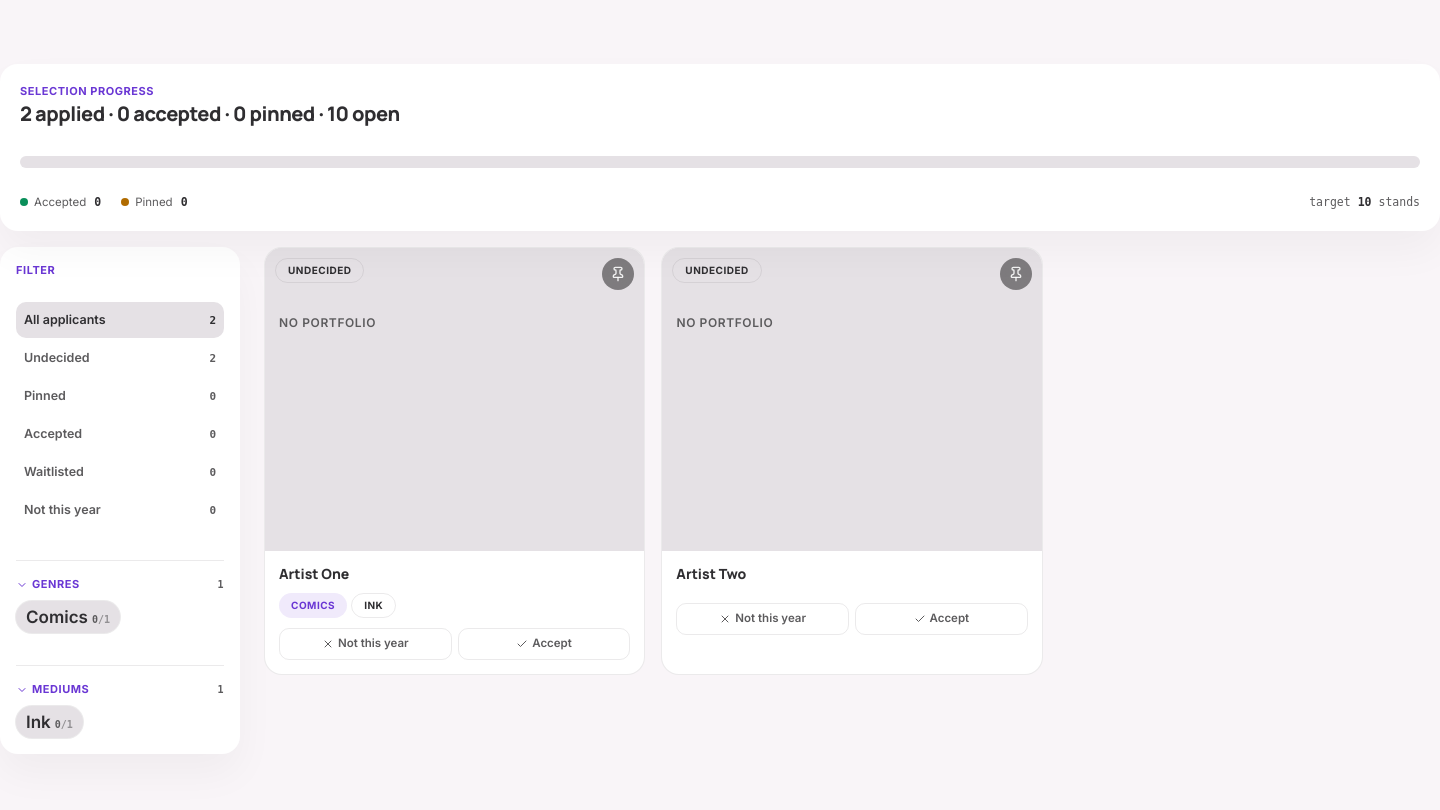
Test: SelectionWorkspace › updates counts after accepting an applicant
Click the 2nd button "Accept" at (544, 644), box [458,628,630,660]
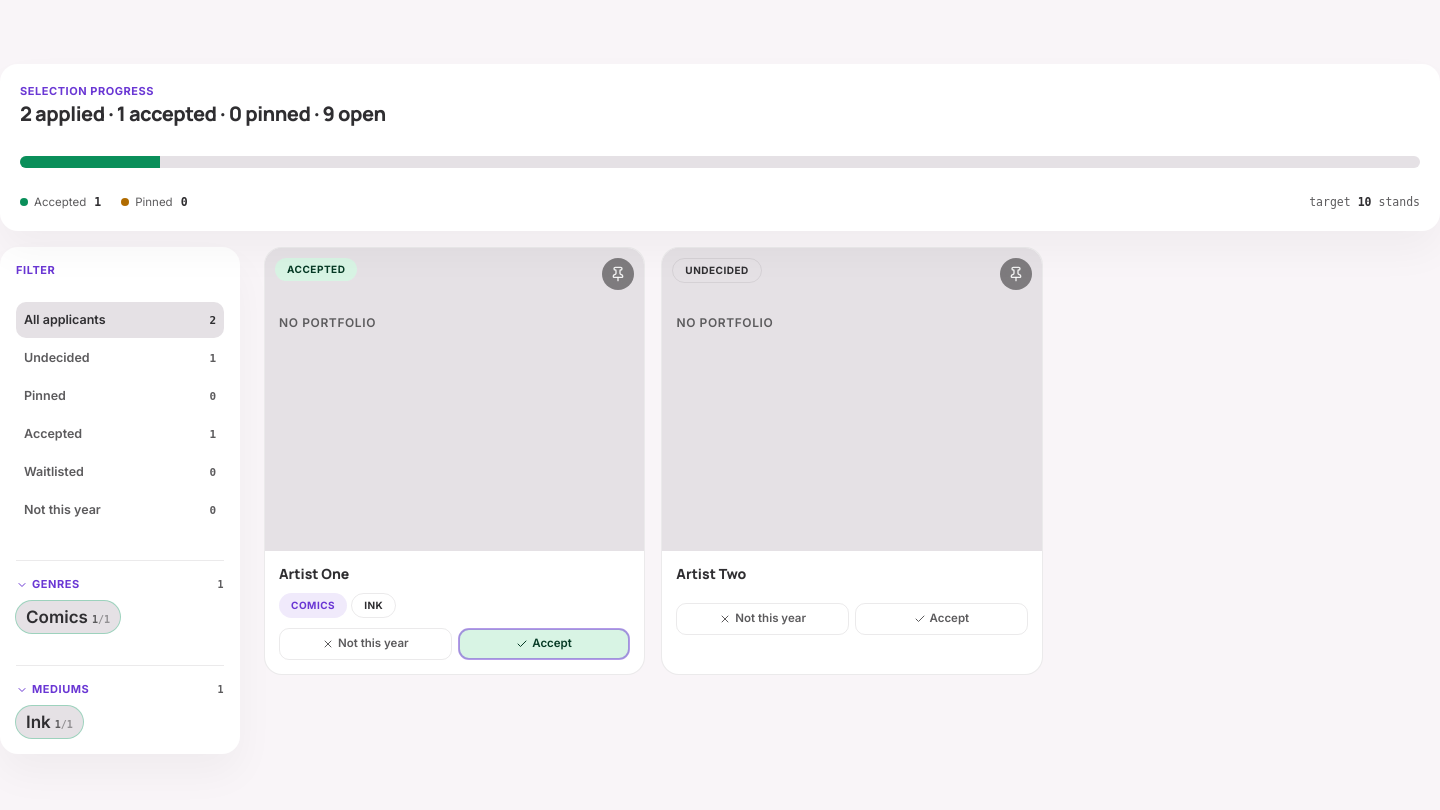
Now the heading "2 applied · 1 accepted · 0 pinned · 9 open" is shown, box [20,100,386,128]
